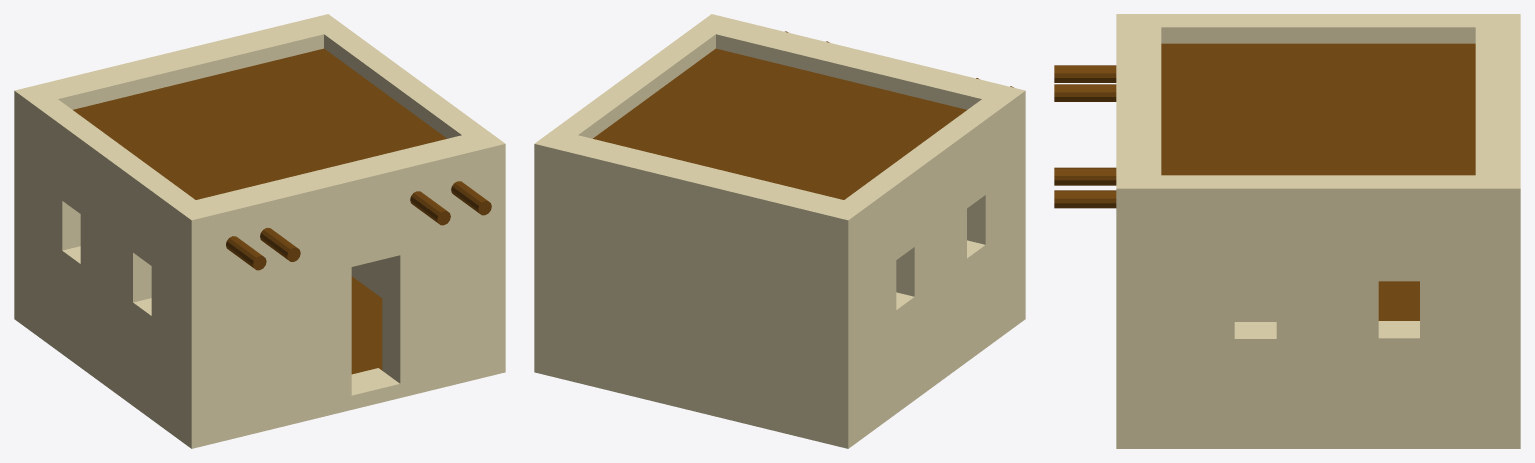
The model's file is square.glb.
The picture shows the model from 3 angles, left to right: view 1: azimuth 30°, elevation 25°; view 2: azimuth 150°, elevation 25°; view 3: azimuth 270°, elevation 25°; orthographic projection. The views are drawn at different scales.
Visible parts, largest first — view 1: square; view 2: square; view 3: square.
Boxes of the visible parts, box(x1,y1,x2,y2) form: square: box(14, 14, 505, 448); square: box(534, 14, 1025, 448); square: box(1054, 14, 1520, 448).
Bounding box in the file's own units: 4.6 × 3.2 × 5.19.
